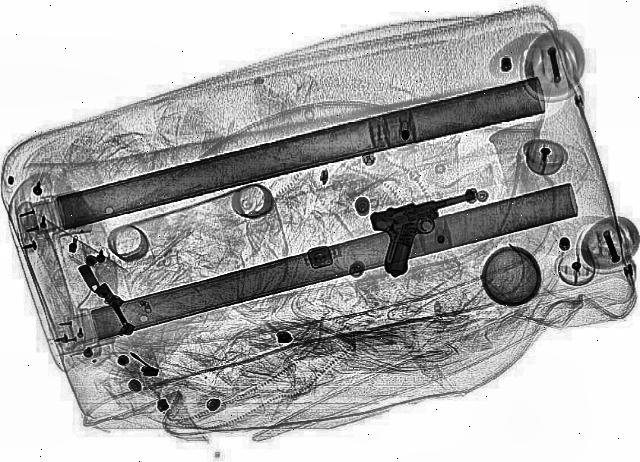Gun: (357, 188, 505, 278)
